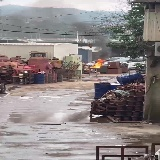fire: (90, 59, 105, 68)
